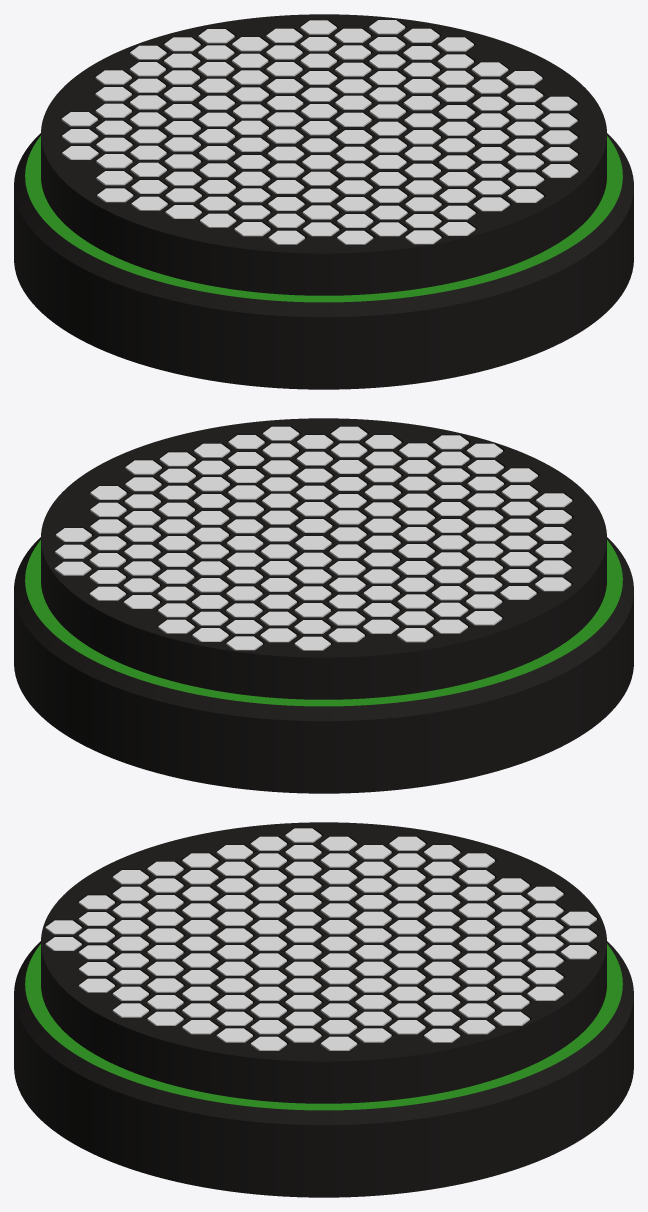
The model's file is Hexagonal_Nature.glb.
3 views of the same model, one above another, from view 1: azimuth 30°, elevation 25°; view 2: azimuth 150°, elevation 25°; view 3: azimuth 270°, elevation 25° (orthographic).
Parts seen in each view (by area): view 1: Cylinder; view 2: Cylinder; view 3: Cylinder.
Part boxes in pixels (x1,y1,x2,y2): Cylinder: [14, 14, 633, 389]; Cylinder: [14, 418, 633, 793]; Cylinder: [14, 822, 633, 1197].
Size of the model in its own units: 11.72 by 3.05 by 11.72.
